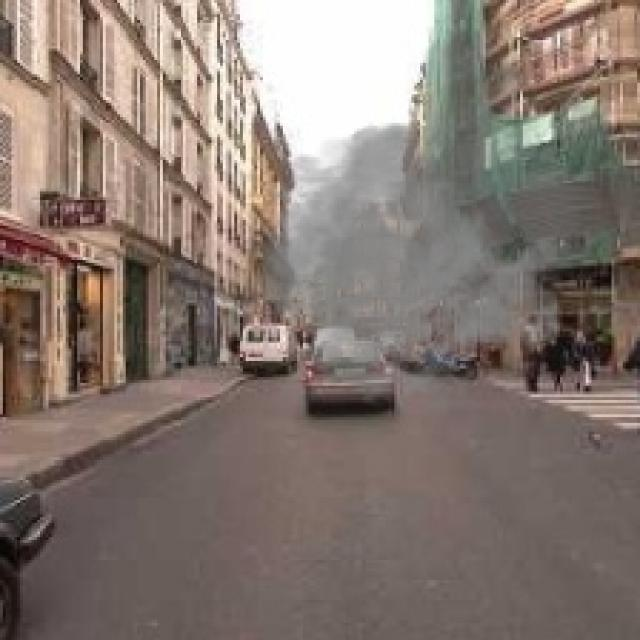smoke: (234, 23, 603, 406)
